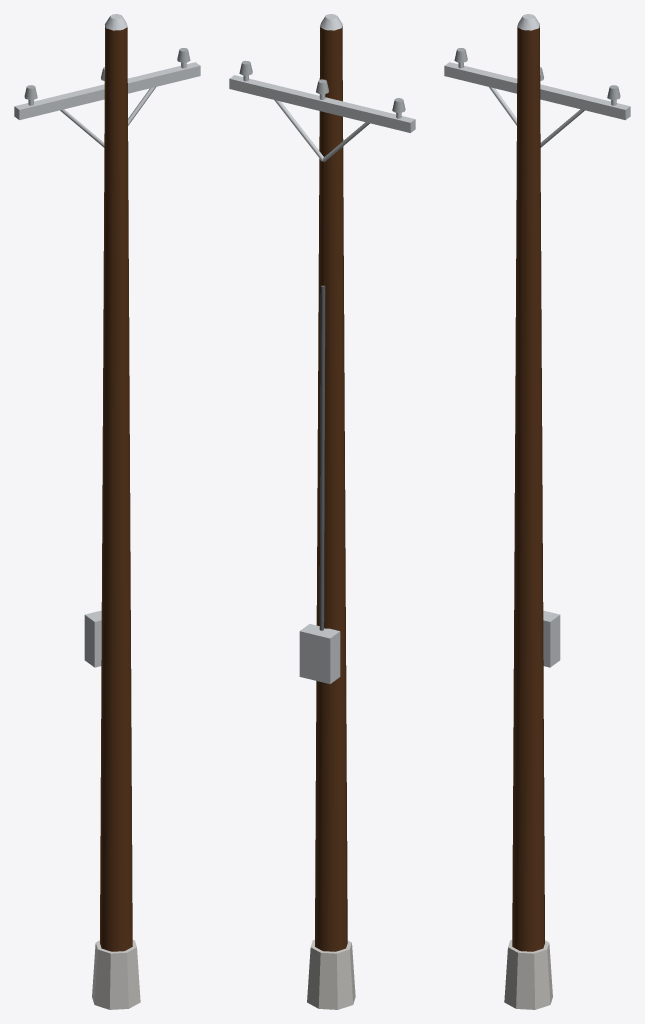
File: SM_PowerPole_NoLamp.fbx
3 renders of one model, left to right at view 1: azimuth 30°, elevation 25°; view 2: azimuth 150°, elevation 25°; view 3: azimuth 330°, elevation 25°, orthographic.
Parts seen in each view (by area): view 1: SM_PowerPole_NoLamp; view 2: SM_PowerPole_NoLamp; view 3: SM_PowerPole_NoLamp.
Boxes of the visible parts, x1,y1,x2,y2 form: SM_PowerPole_NoLamp: (14,14,200,1009); SM_PowerPole_NoLamp: (229,14,415,1009); SM_PowerPole_NoLamp: (444,14,630,1009).
Bounding box in the file's own units: 166 × 861 × 46.
